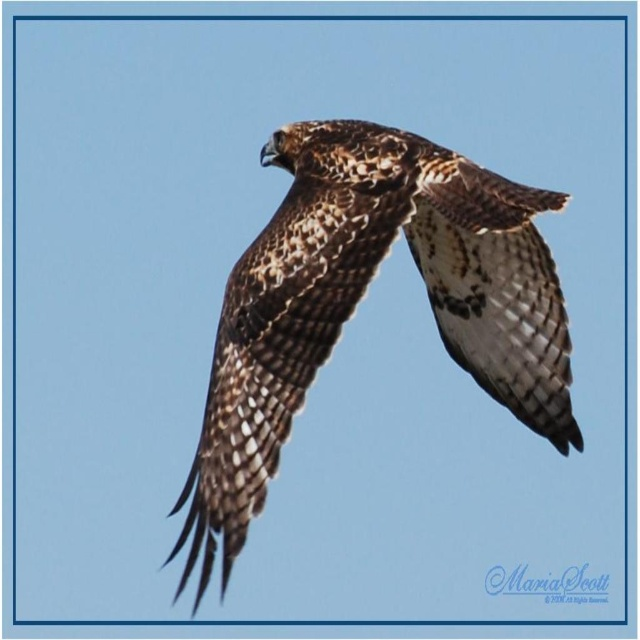Eagle: (158, 119, 585, 621)
